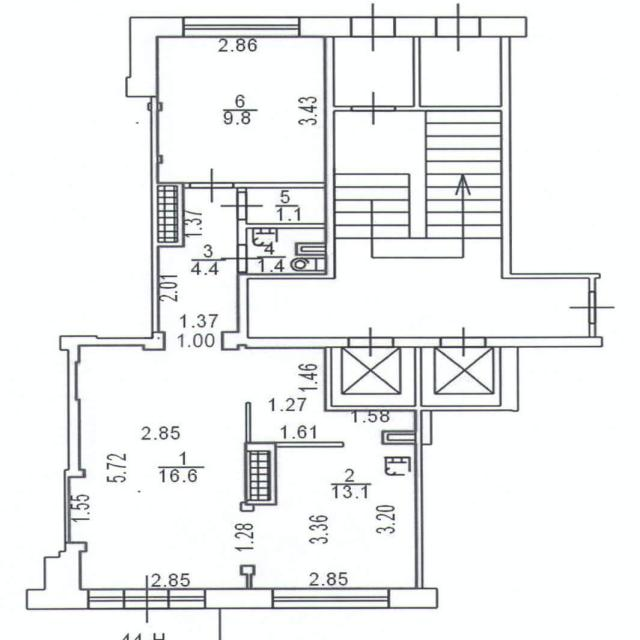Bathrooms: (247, 229, 325, 273)
Corridors: (248, 260, 588, 336), (159, 188, 237, 331), (335, 37, 412, 106), (422, 38, 500, 104), (248, 188, 325, 224)
Doors: (436, 2, 481, 52), (124, 574, 169, 623), (351, 2, 395, 52), (351, 90, 397, 126), (190, 167, 234, 204), (568, 291, 617, 323), (347, 326, 394, 359), (440, 324, 487, 357), (220, 244, 264, 273), (220, 192, 264, 220), (167, 332, 221, 351)
LBwalls: (124, 16, 184, 98), (26, 542, 88, 610), (204, 588, 273, 610), (500, 347, 519, 411), (390, 587, 438, 610), (300, 16, 352, 37), (480, 16, 528, 38), (395, 16, 436, 38), (142, 332, 166, 351), (220, 331, 240, 351), (240, 565, 255, 576), (240, 502, 256, 512)
Offices: (71, 346, 415, 589), (159, 39, 323, 182)
Stairs: (336, 111, 501, 260)
Walls: (396, 36, 601, 291), (236, 273, 502, 412), (234, 38, 351, 279), (59, 335, 143, 542), (244, 401, 344, 506), (147, 96, 190, 332), (381, 411, 432, 588), (486, 336, 604, 347), (394, 337, 441, 348), (588, 324, 596, 336), (82, 541, 88, 553), (246, 576, 252, 587)
Windows: (272, 587, 390, 610), (182, 16, 300, 38), (167, 588, 206, 608), (88, 589, 125, 610)
